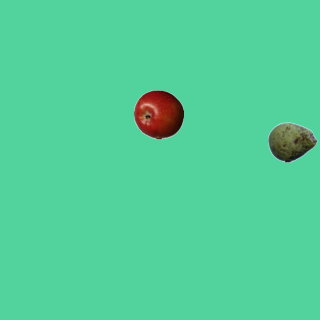Apple Braeburn: (133, 89, 183, 139)
Pear Stone: (267, 117, 317, 167)
